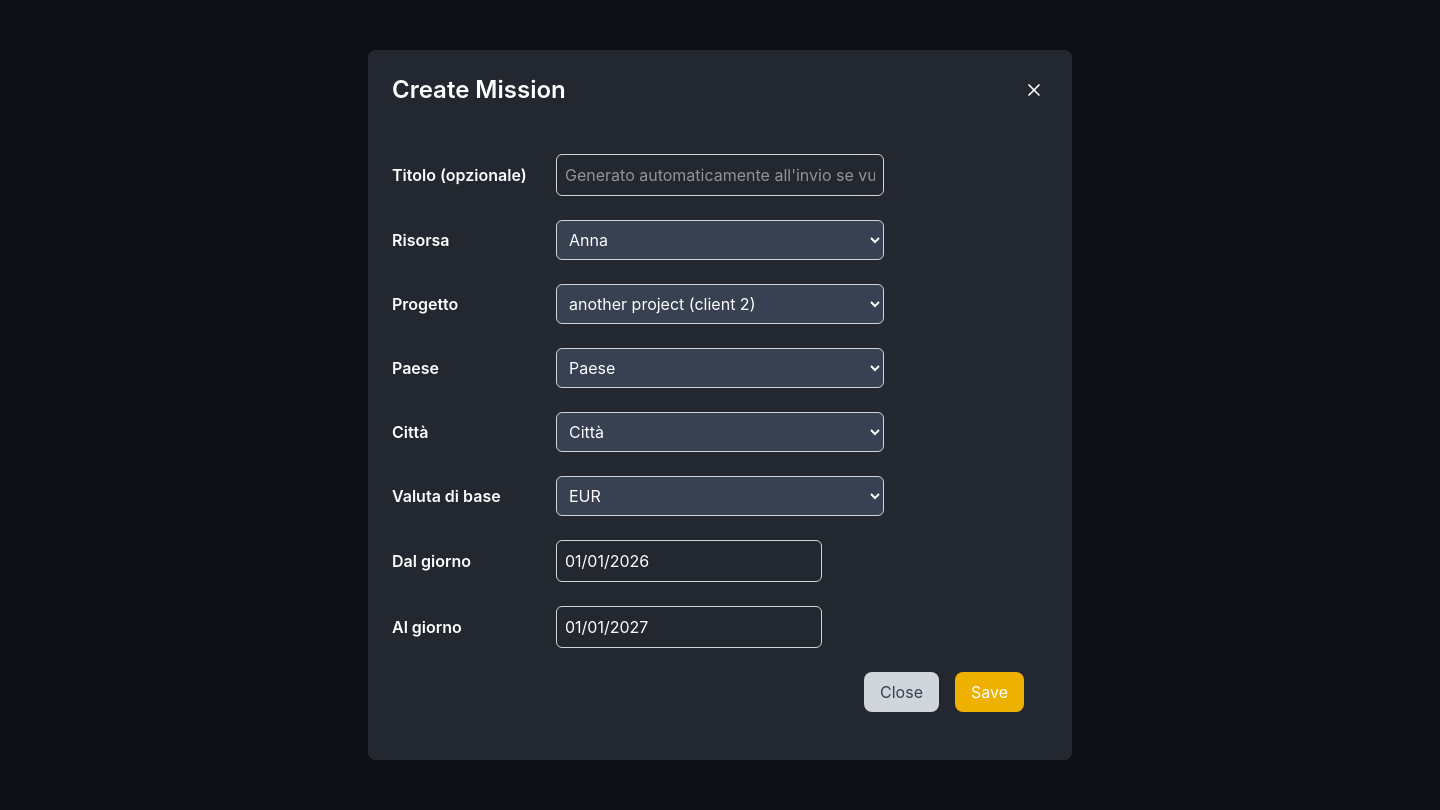
Test: CreateMission › shows the server validation errors
This screenshot has width=1440, height=810.
Step 1. Click the button with test id "save-button" → (990, 692), box [955,672,1024,712]
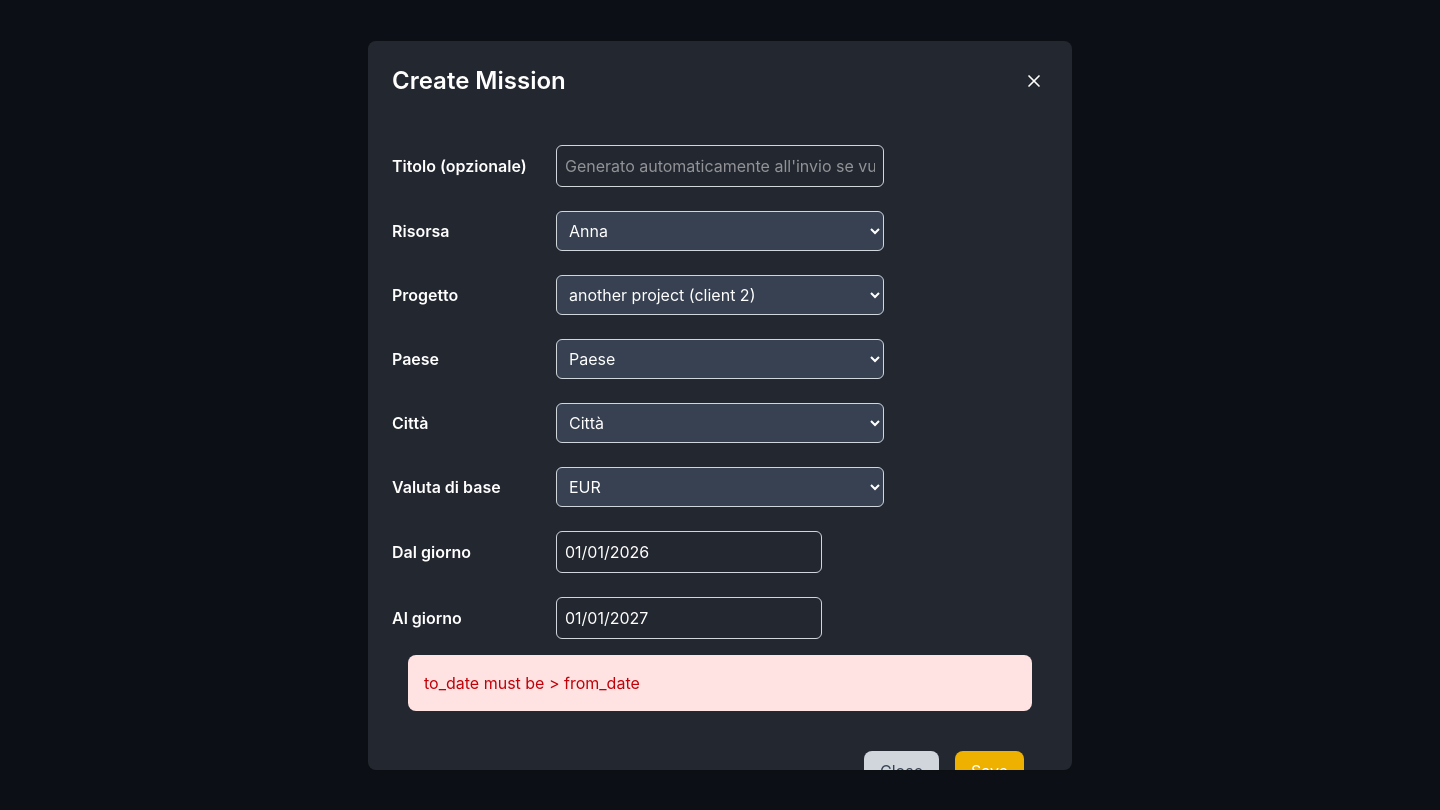
Check: the element with test id "create-mission-errors" reads "to_date must be > from_date", box [424,672,640,692]
